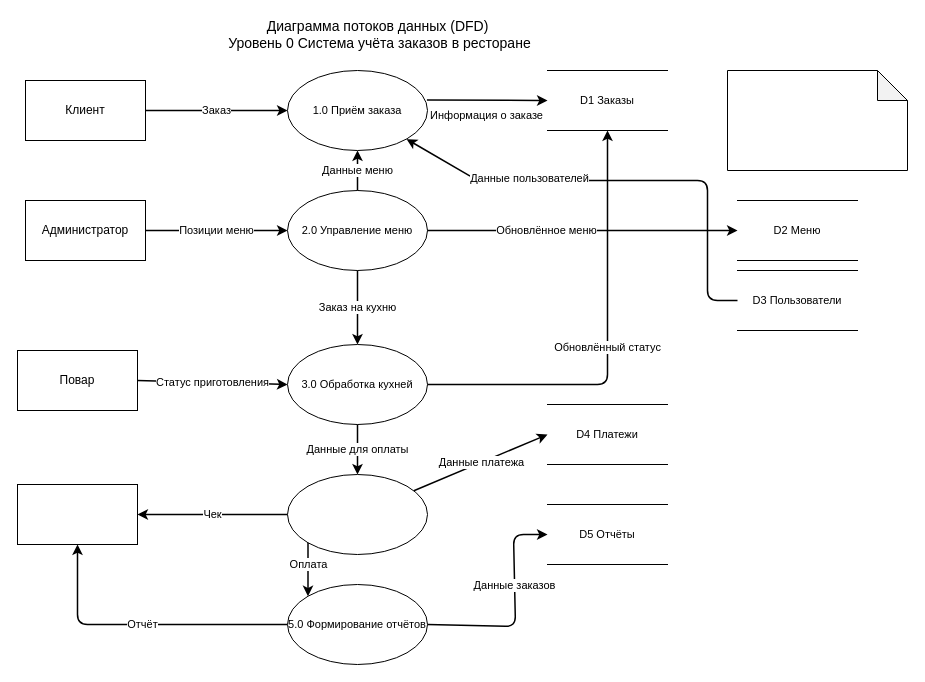
This 925x682 diagram has some shape labels left out. The shapes that lost their labels are listed below. From the top down, each one's centre as x and y in pixels, then its label:
(817,120): Легенда DFD: Внешняя сущность: Процесс Хранилище данных - Поток данных
(77,514): Кассир
(357,514): 4.0 Оплата заказа
